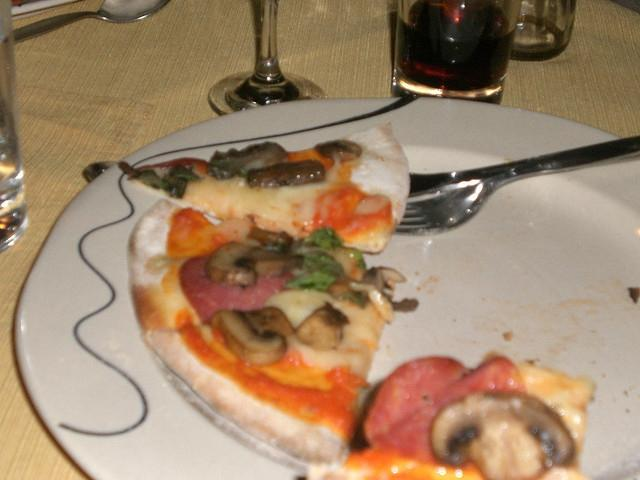mushroom: (429, 391, 576, 480), (210, 306, 295, 366), (204, 241, 304, 287), (294, 300, 352, 352), (209, 140, 290, 172), (290, 240, 354, 276), (247, 160, 326, 188), (246, 226, 294, 252), (362, 266, 407, 293), (314, 138, 362, 162), (326, 274, 361, 306), (82, 161, 116, 182), (168, 178, 188, 198)
